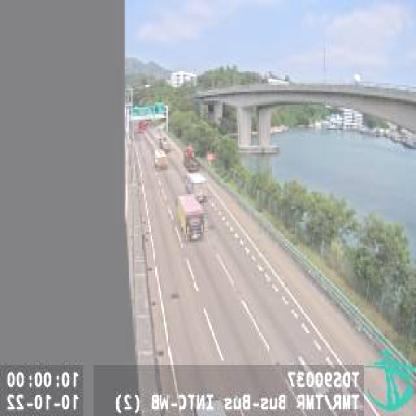Truck: (178, 191, 204, 240), (187, 173, 208, 199), (184, 145, 201, 171), (154, 147, 167, 168)
